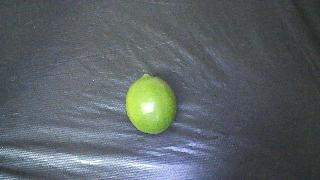LOCAL: (126, 74, 177, 134)
